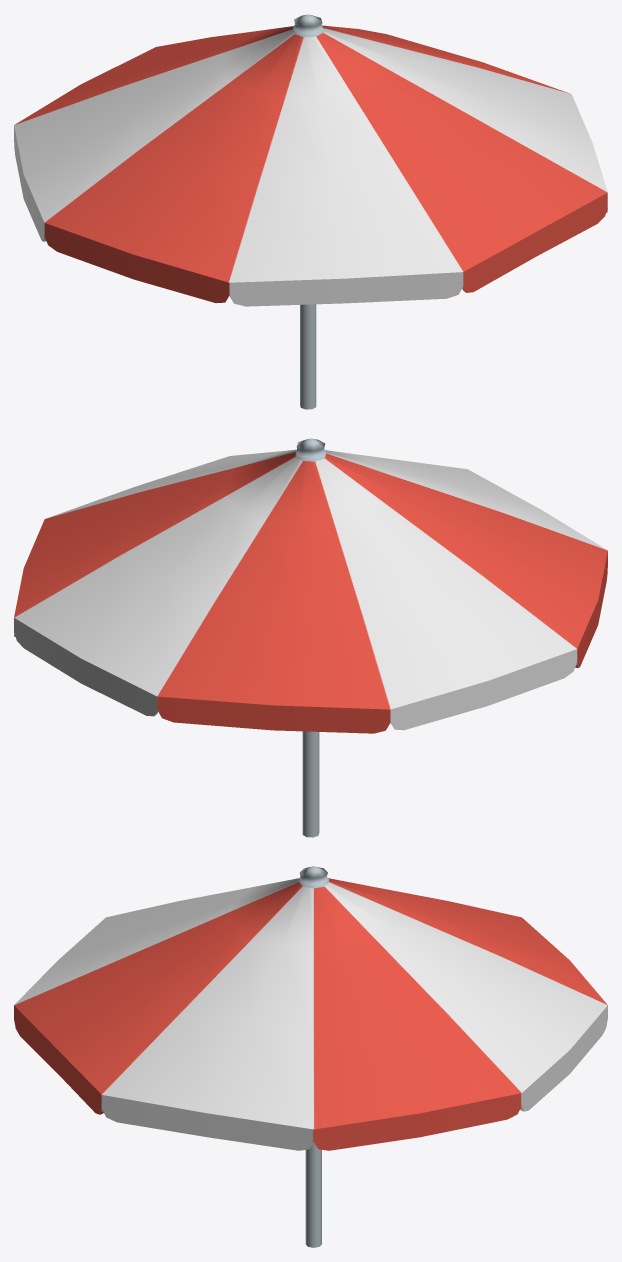
File: OP-Beach_Umbrella.fbx
3 renders of one model, top to bottom at view 1: azimuth 30°, elevation 25°; view 2: azimuth 150°, elevation 25°; view 3: azimuth 270°, elevation 25°, orthographic. The views are drawn at different scales.
Visible parts, largest first — view 1: Cylinder.003; view 2: Cylinder.003; view 3: Cylinder.003.
Boxes of the visible parts, x1,y1,x2,y2 form: Cylinder.003: [14, 14, 607, 409]; Cylinder.003: [14, 438, 607, 837]; Cylinder.003: [14, 866, 607, 1247].
Bounding box in the file's own units: 1226 × 1238 × 870.
